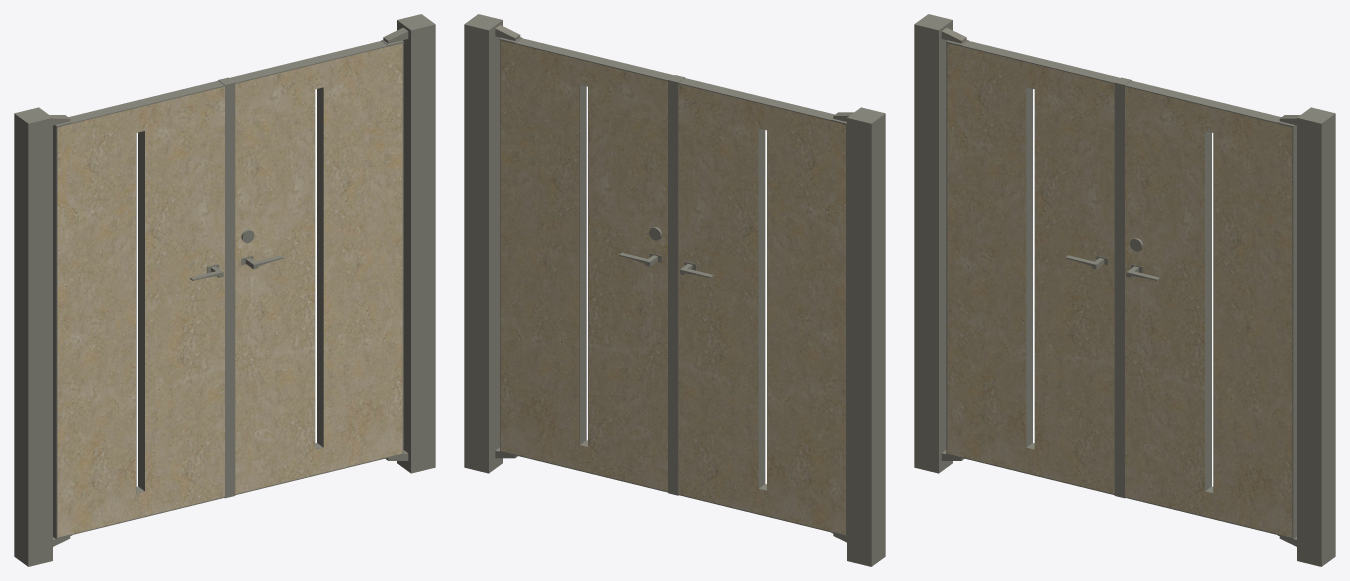
The model's file is 07-07-16_travertine.fbx.
3 views of the same model, side by side, from view 1: azimuth 30°, elevation 25°; view 2: azimuth 150°, elevation 25°; view 3: azimuth 330°, elevation 25° (orthographic).
Visible parts, largest first — view 1: 07-07-16travertine; view 2: 07-07-16travertine; view 3: 07-07-16travertine.
Boxes of the visible parts, x1,y1,x2,y2 form: 07-07-16travertine: [14, 14, 435, 566]; 07-07-16travertine: [464, 14, 885, 566]; 07-07-16travertine: [914, 14, 1335, 566].
Size of the model in its own units: 165 by 172 by 16.7.
2 materials, 2 textured.
